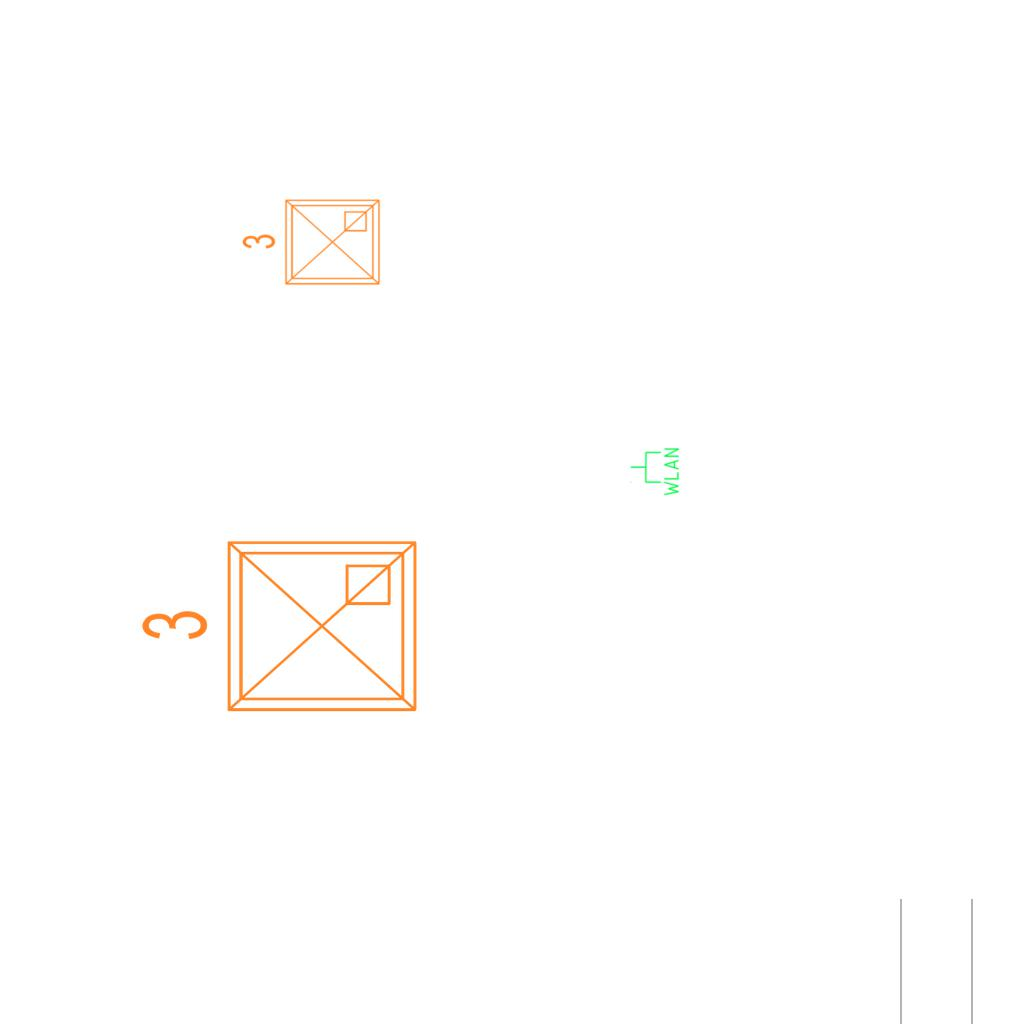Einbaudownlights_LED_Konferenzraeume: (131, 526, 431, 734), (237, 192, 387, 296)
WLAN: (629, 446, 681, 498)
